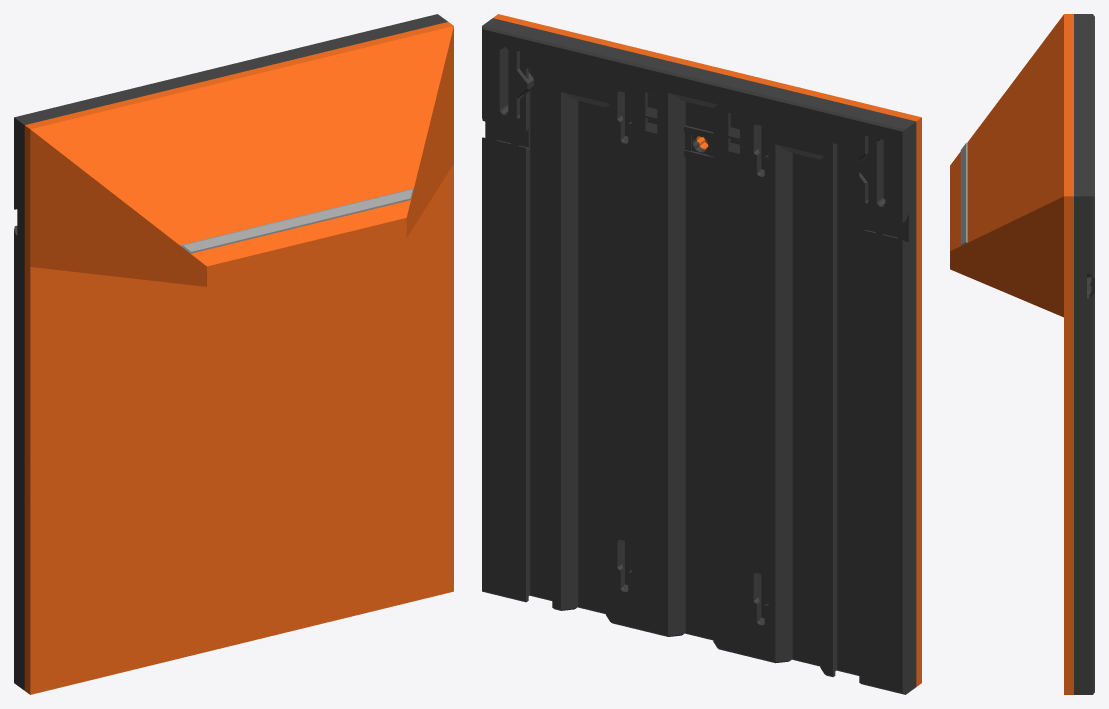
Rendered from Faceplate_ClassicDecor_1W-2H.lib.glb.
3 views of the same model, side by side, from view 1: azimuth 30°, elevation 25°; view 2: azimuth 150°, elevation 25°; view 3: azimuth 270°, elevation 25° (orthographic). The views are drawn at different scales.
Parts seen in each view (by area): view 1: Faceplate_ClassicDecor_1W-2H; view 2: Faceplate_ClassicDecor_1W-2H; view 3: Faceplate_ClassicDecor_1W-2H.
Boxes of the visible parts, box(x1,y1,x2,y2) form: Faceplate_ClassicDecor_1W-2H: box(14, 14, 453, 694); Faceplate_ClassicDecor_1W-2H: box(482, 14, 921, 694); Faceplate_ClassicDecor_1W-2H: box(950, 14, 1094, 694).
Size of the model in its own units: 87 by 111 by 29.2.
